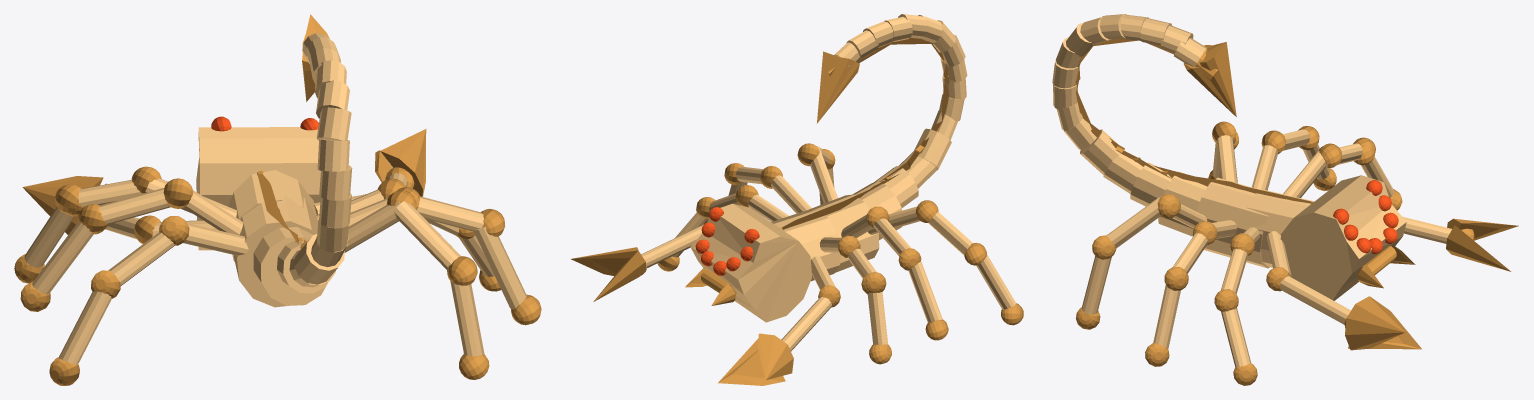
File: animals-scorpion-173.glb
3 views of the same model, side by side, from view 1: azimuth 30°, elevation 25°; view 2: azimuth 150°, elevation 25°; view 3: azimuth 270°, elevation 25° (orthographic). The views are drawn at different scales.
Parts seen in each view (by area): view 1: Node; view 2: Node; view 3: Node.
Boxes of the visible parts, bbox=[...] form: Node: bbox=[14, 14, 541, 385]; Node: bbox=[571, 14, 1023, 385]; Node: bbox=[1052, 14, 1518, 385].
Bounding box in the file's own units: 0.5493 × 0.3692 × 0.5657.
